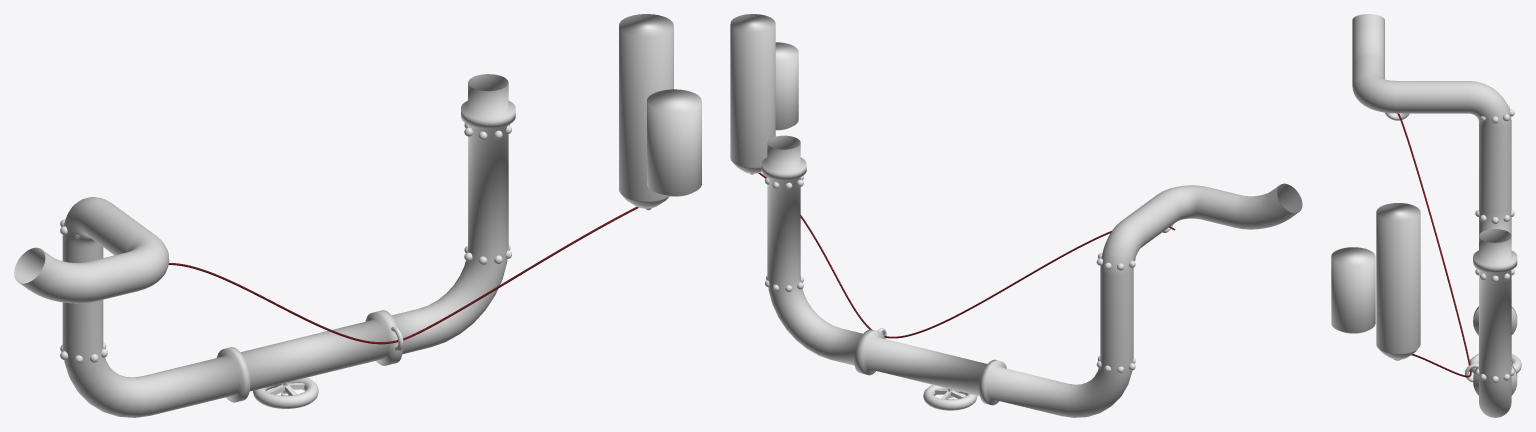
File: Tubos.fbx
3 renders of one model, left to right at view 1: azimuth 30°, elevation 25°; view 2: azimuth 150°, elevation 25°; view 3: azimuth 270°, elevation 25°, orthographic. The views are drawn at different scales.
Parts seen in each view (by area): view 1: Plane, Cylinder, Cylinder.001, Torus, BezierCurve; view 2: Plane, Cylinder, Cylinder.001, Torus, BezierCurve; view 3: Plane, Cylinder, Cylinder.001, BezierCurve, Torus.
Boxes of the visible parts, bbox=[...] form: Plane: bbox=[14, 74, 515, 417]; Cylinder: bbox=[619, 14, 673, 208]; Cylinder.001: bbox=[647, 89, 701, 196]; Torus: bbox=[253, 377, 318, 408]; BezierCurve: bbox=[169, 206, 638, 344]; Plane: bbox=[761, 135, 1302, 417]; Cylinder: bbox=[730, 14, 775, 173]; Cylinder.001: bbox=[775, 42, 798, 130]; Torus: bbox=[923, 385, 977, 410]; BezierCurve: bbox=[758, 172, 1175, 338]; Plane: bbox=[1352, 14, 1517, 417]; Cylinder: bbox=[1376, 203, 1420, 359]; Cylinder.001: bbox=[1331, 247, 1375, 333]; BezierCurve: bbox=[1397, 113, 1471, 377]; Torus: bbox=[1468, 354, 1521, 373].
Size of the model in its own units: 0.0687 by 0.0335 by 0.021.
